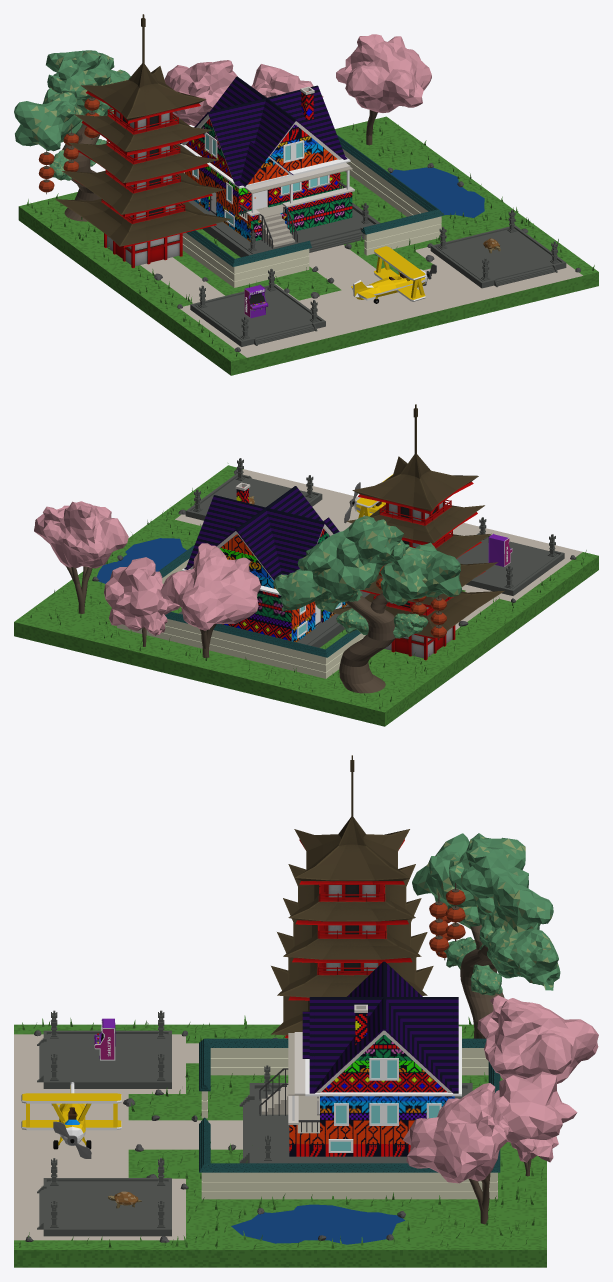
3 views of the same model, one above another, from view 1: azimuth 30°, elevation 25°; view 2: azimuth 150°, elevation 25°; view 3: azimuth 270°, elevation 25° (orthographic). The views are drawn at different scales.
Visible parts, largest first — view 1: Cube.005, Cube.966, VEHICLES_AIRPLANE, OBJRANDOM_ARCADE; view 2: Cube.005, Cube.966, OBJRANDOM_ARCADE, VEHICLES_AIRPLANE; view 3: Cube.005, Cube.966, VEHICLES_AIRPLANE, OBJRANDOM_ARCADE.
Part boxes in pixels (x1,y1,x2,y2): Cube.005: [14, 14, 598, 375]; Cube.966: [179, 76, 354, 248]; VEHICLES_AIRPLANE: [350, 246, 436, 303]; OBJRANDOM_ARCADE: [244, 284, 268, 318]; Cube.005: [14, 404, 598, 726]; Cube.966: [181, 482, 347, 642]; OBJRANDOM_ARCADE: [488, 533, 512, 566]; VEHICLES_AIRPLANE: [344, 474, 393, 523]; Cube.005: [14, 755, 598, 1267]; Cube.966: [259, 961, 461, 1156]; VEHICLES_AIRPLANE: [21, 1082, 121, 1158]; OBJRANDOM_ARCADE: [94, 1018, 115, 1060].
Bounding box in the file's own units: 4528 × 2640 × 4389.
Materials: 54 (10 with a texture image).
